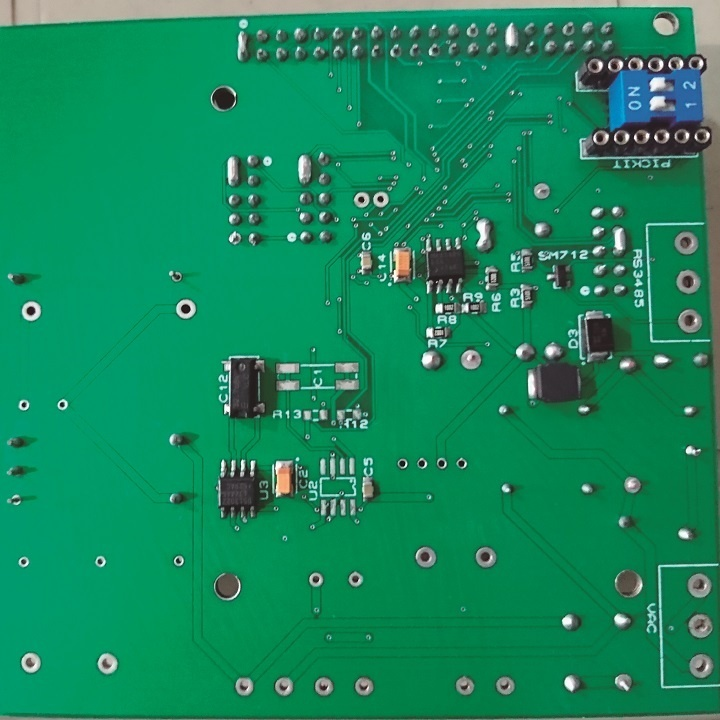F: (673, 232, 701, 259), (688, 570, 713, 600), (687, 612, 714, 639), (675, 269, 701, 297), (412, 545, 439, 571), (677, 308, 702, 336), (93, 651, 120, 676), (689, 651, 712, 679), (19, 649, 41, 676), (457, 349, 481, 373), (20, 301, 43, 326), (473, 545, 496, 570), (174, 295, 196, 320), (233, 675, 258, 697), (493, 675, 517, 697), (273, 675, 295, 698), (313, 676, 336, 698), (354, 677, 376, 700), (610, 672, 634, 693), (456, 675, 475, 698), (621, 476, 643, 495), (532, 180, 551, 202), (227, 224, 243, 247), (308, 569, 326, 589), (7, 492, 24, 512), (353, 192, 373, 209), (166, 266, 182, 286), (347, 569, 364, 587), (561, 20, 576, 38), (371, 192, 389, 206), (171, 554, 187, 569), (93, 552, 106, 570), (57, 397, 69, 415), (19, 396, 30, 414), (389, 43, 402, 58), (396, 457, 409, 472), (467, 23, 479, 39), (436, 457, 448, 473), (456, 458, 467, 474), (427, 43, 438, 58), (19, 557, 31, 568), (416, 458, 427, 470)
P: (475, 215, 495, 255), (610, 222, 630, 259), (224, 152, 241, 189), (297, 151, 313, 189), (504, 20, 520, 58), (233, 30, 249, 63)
